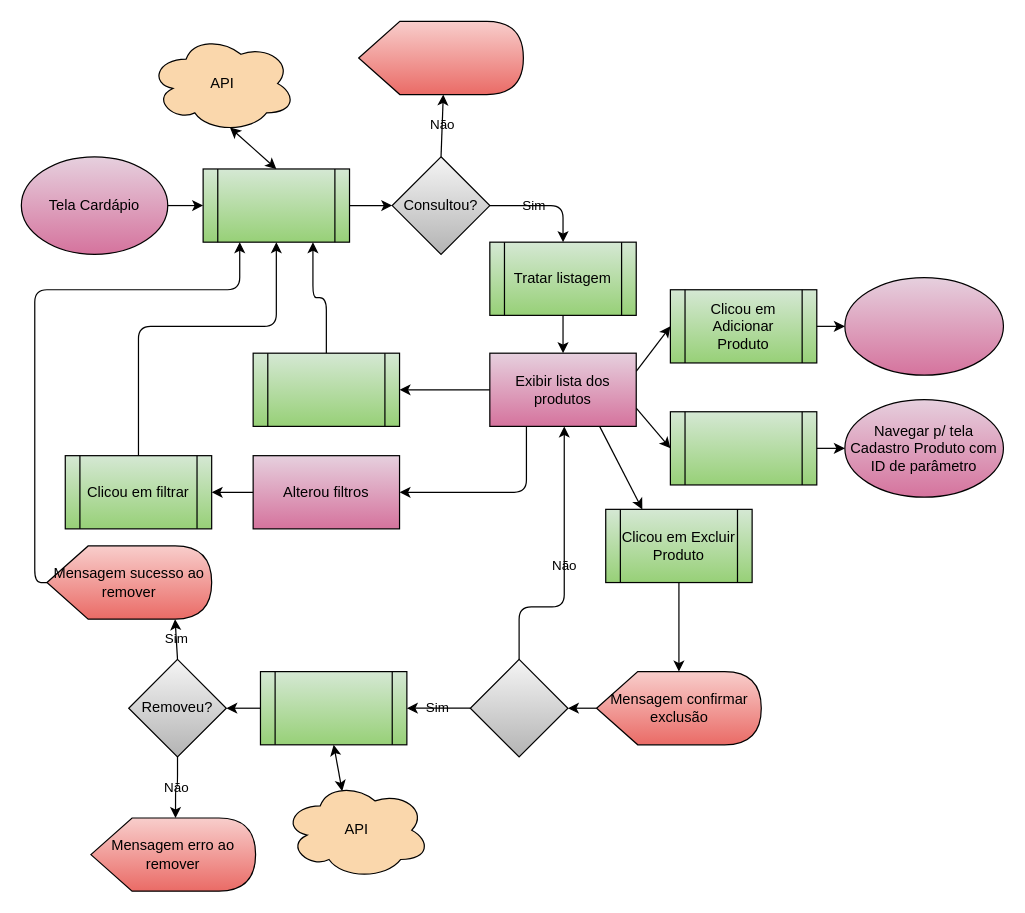
The diagram is 1025 pixels wide and 913 high, and some of its shapes have lost their labels. Here are the shapes that lost their labels. From the top down, the box of each, then its label:
(357, 20, 523, 95): Mensagem erro ao consultar
(202, 168, 350, 242): Consultar produtos
(844, 276, 1003, 375): Navegar p/ tela Cadastro Produto
(252, 352, 400, 426): Alterou paginação
(669, 411, 817, 485): Clicou em Editar Produto
(259, 670, 407, 745): Remover produto
(469, 658, 568, 757): Confirmou?
